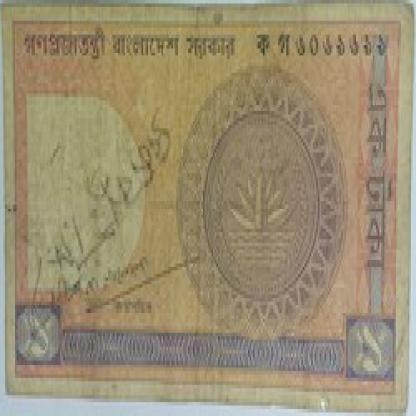One Taka: (363, 73, 396, 281), (346, 315, 394, 382), (15, 305, 60, 364)
